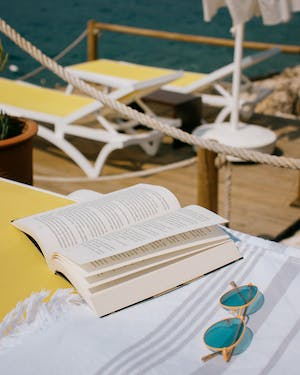book: (11, 181, 246, 317)
